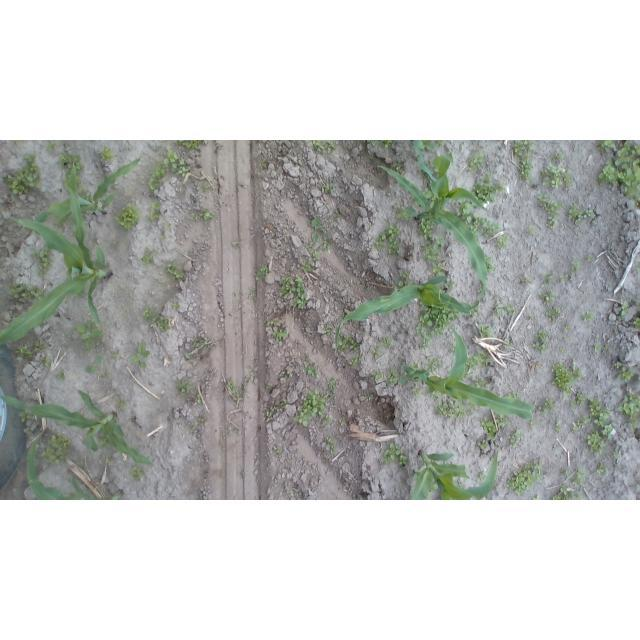Maize: (377, 141, 492, 296), (2, 185, 113, 345), (398, 327, 534, 418), (2, 388, 155, 466), (335, 270, 486, 348), (38, 155, 143, 225), (27, 444, 124, 501), (409, 448, 498, 501)
Weeds: (595, 141, 640, 200), (147, 147, 189, 192), (4, 152, 43, 196), (456, 201, 503, 231), (506, 459, 542, 496), (294, 390, 325, 427), (40, 433, 72, 466), (417, 312, 460, 336), (374, 222, 402, 256), (478, 415, 506, 449), (537, 193, 563, 229), (279, 276, 307, 309), (551, 363, 581, 393), (540, 162, 572, 190), (475, 175, 507, 203), (615, 395, 640, 429), (587, 423, 613, 455), (515, 141, 535, 182), (75, 320, 101, 350), (30, 245, 55, 276), (115, 201, 140, 230), (142, 305, 169, 331), (380, 442, 406, 468), (590, 396, 611, 426), (421, 244, 442, 274), (568, 202, 592, 227), (59, 154, 83, 178), (434, 402, 467, 419), (266, 396, 286, 424), (129, 342, 149, 368), (552, 485, 583, 500), (8, 281, 29, 302), (468, 152, 487, 173), (84, 355, 105, 374), (417, 219, 436, 240), (310, 217, 325, 242), (414, 140, 444, 152), (309, 141, 335, 154), (228, 382, 244, 402), (474, 321, 494, 337), (173, 140, 208, 149), (141, 247, 157, 265), (166, 263, 184, 279), (100, 146, 116, 164), (341, 336, 360, 351), (301, 357, 316, 376), (475, 348, 492, 364), (509, 429, 524, 447), (533, 328, 545, 350), (191, 209, 213, 221), (130, 465, 146, 481), (427, 357, 443, 373), (540, 291, 557, 306), (490, 293, 501, 316), (396, 270, 410, 288), (573, 417, 590, 431), (15, 346, 32, 360), (149, 203, 163, 220), (572, 469, 585, 487), (27, 284, 43, 298), (189, 418, 203, 434), (255, 265, 269, 281), (618, 367, 633, 381), (545, 307, 560, 321), (319, 237, 332, 253), (571, 394, 586, 407), (18, 411, 33, 424), (33, 340, 48, 353), (116, 398, 129, 412), (274, 331, 287, 345), (539, 398, 553, 411), (419, 337, 435, 348), (387, 368, 398, 384), (485, 256, 495, 273), (178, 380, 191, 393), (496, 233, 508, 247), (323, 437, 335, 451), (394, 205, 408, 217), (554, 152, 567, 164), (99, 437, 111, 449), (302, 262, 315, 273), (469, 357, 480, 370), (203, 339, 217, 349), (433, 237, 444, 249), (583, 310, 595, 321), (381, 337, 393, 348), (109, 240, 120, 252), (473, 375, 485, 386), (322, 415, 333, 427), (519, 276, 532, 286), (505, 304, 519, 313), (598, 464, 609, 475), (444, 282, 455, 293), (371, 369, 382, 380), (391, 164, 404, 173), (562, 323, 572, 334), (231, 239, 242, 249), (349, 354, 359, 365), (381, 141, 393, 150), (250, 287, 259, 299), (280, 372, 292, 381), (424, 188, 433, 199), (585, 254, 596, 263), (373, 349, 382, 360), (274, 445, 283, 456), (57, 370, 66, 381), (324, 325, 333, 336), (476, 472, 487, 481), (622, 300, 628, 315), (570, 262, 580, 271), (46, 142, 56, 151), (411, 388, 421, 397), (323, 184, 334, 192), (328, 379, 336, 390), (107, 454, 114, 466), (559, 274, 569, 282), (172, 299, 180, 309), (543, 274, 553, 282), (264, 320, 280, 325), (504, 393, 517, 399), (557, 421, 564, 432), (468, 402, 477, 410), (636, 260, 640, 278), (102, 370, 111, 378), (634, 317, 640, 329), (527, 227, 537, 234), (313, 250, 320, 260), (561, 470, 569, 478), (413, 472, 420, 481), (471, 309, 480, 316), (193, 341, 202, 348), (112, 350, 119, 359), (42, 357, 49, 366), (365, 394, 372, 403), (66, 492, 76, 498), (594, 343, 600, 353), (411, 361, 419, 368), (203, 181, 210, 189), (339, 418, 346, 426), (196, 395, 201, 406), (183, 352, 189, 361), (159, 230, 165, 239), (11, 141, 21, 146), (532, 496, 542, 501), (433, 395, 440, 402), (529, 313, 536, 320), (166, 221, 172, 229), (559, 346, 566, 352), (616, 361, 622, 368), (531, 421, 537, 427), (306, 244, 312, 250), (605, 343, 611, 349), (332, 210, 338, 216), (330, 220, 335, 227), (371, 140, 377, 145), (635, 305, 640, 311), (614, 453, 619, 458), (564, 337, 569, 341)
